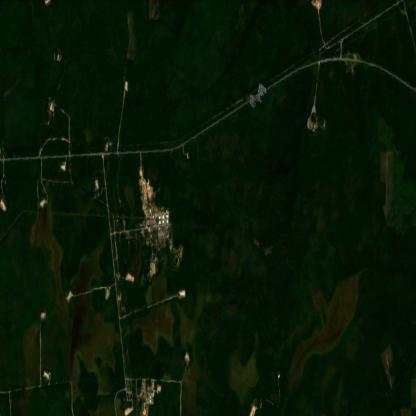oil: (246, 83, 267, 115)
